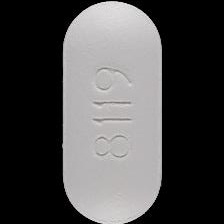54868-5905: (0, 0, 224, 224)
